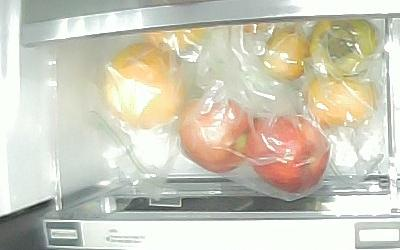apple_vinyl: (248, 111, 330, 191), (178, 97, 248, 172)
grapefruit_vinyl: (105, 41, 184, 128)
persimmon_vinyl: (308, 20, 378, 77), (307, 76, 375, 129)
prune_vinyl: (264, 30, 312, 80)
